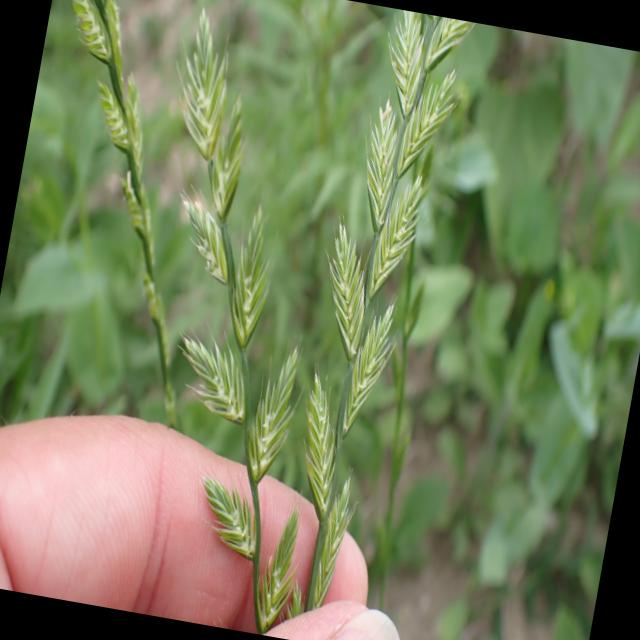Lolium: (94, 13, 386, 636), (262, 6, 467, 640)
